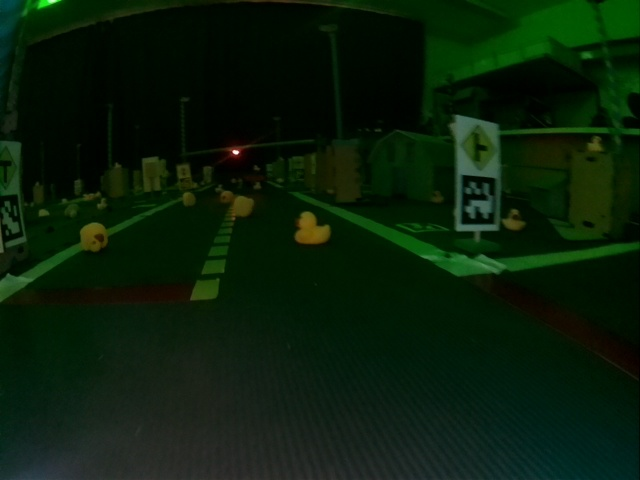Duckie: (294, 212, 330, 243), (79, 225, 108, 250), (505, 207, 523, 230), (233, 199, 253, 215), (180, 192, 196, 205), (220, 191, 231, 201), (64, 204, 74, 214), (430, 192, 440, 202), (253, 183, 262, 191), (100, 200, 105, 207)
Intersection sign: (460, 123, 498, 169)
QR code: (460, 174, 496, 227)
